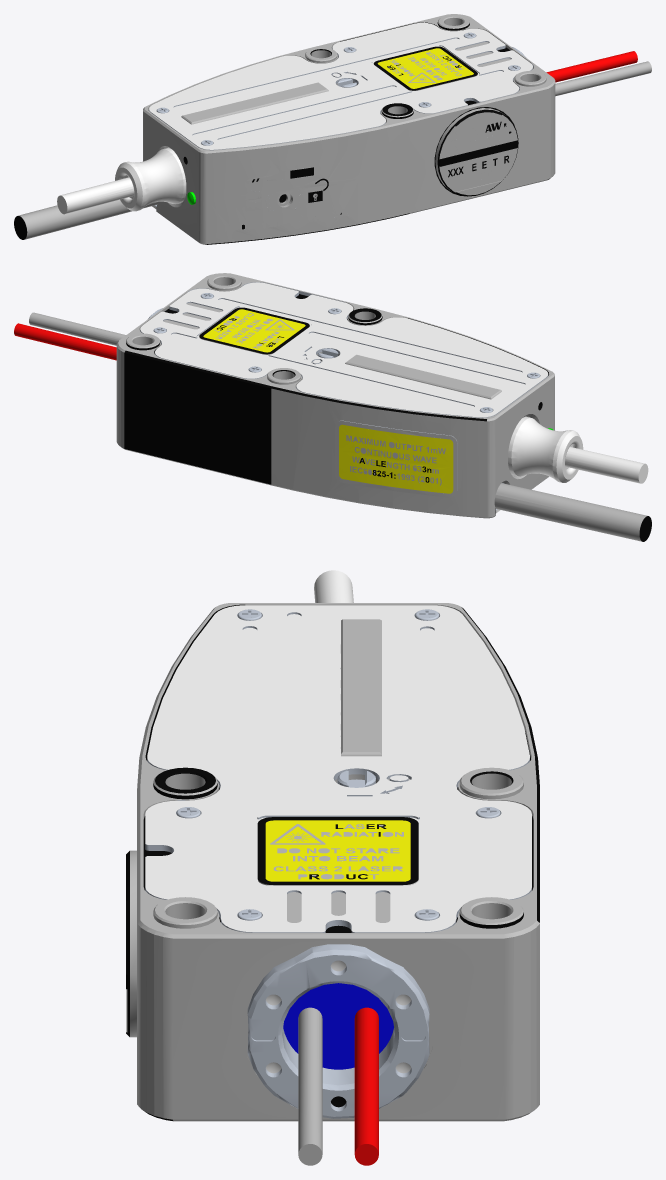
Rendered from 14477_Laser_Interferometer.fbx.
3 renders of one model, top to bottom at view 1: azimuth 30°, elevation 25°; view 2: azimuth 150°, elevation 25°; view 3: azimuth 270°, elevation 25°, orthographic. The views are drawn at different scales.
Visible parts, largest first — view 1: sub01, obj1, sub02; view 2: sub01, obj1, sub02; view 3: sub01, obj1, sub02.
Boxes of the visible parts, x1,y1,x2,y2 form: sub01: (14,14,651,244); obj1: (181,82,328,124); sub02: (57,124,505,214); sub01: (14,273,651,541); obj1: (345,354,501,399); sub02: (565,444,648,483); sub01: (126,603,539,1165); obj1: (340,619,381,756); sub02: (314,570,353,602).
Bounding box in the file's own units: 0.439 × 0.0686 × 0.1306.
